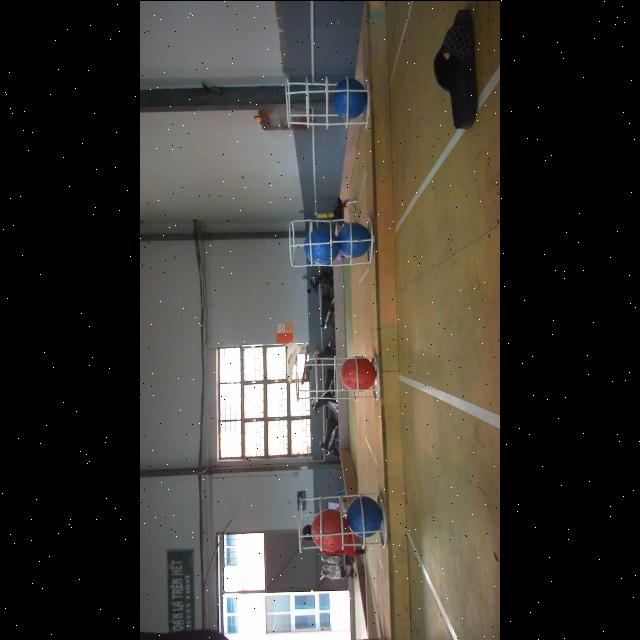B: (346, 494, 382, 538), (332, 77, 368, 117), (304, 229, 338, 265), (338, 224, 369, 258)
R: (311, 508, 347, 552), (340, 355, 376, 391)
